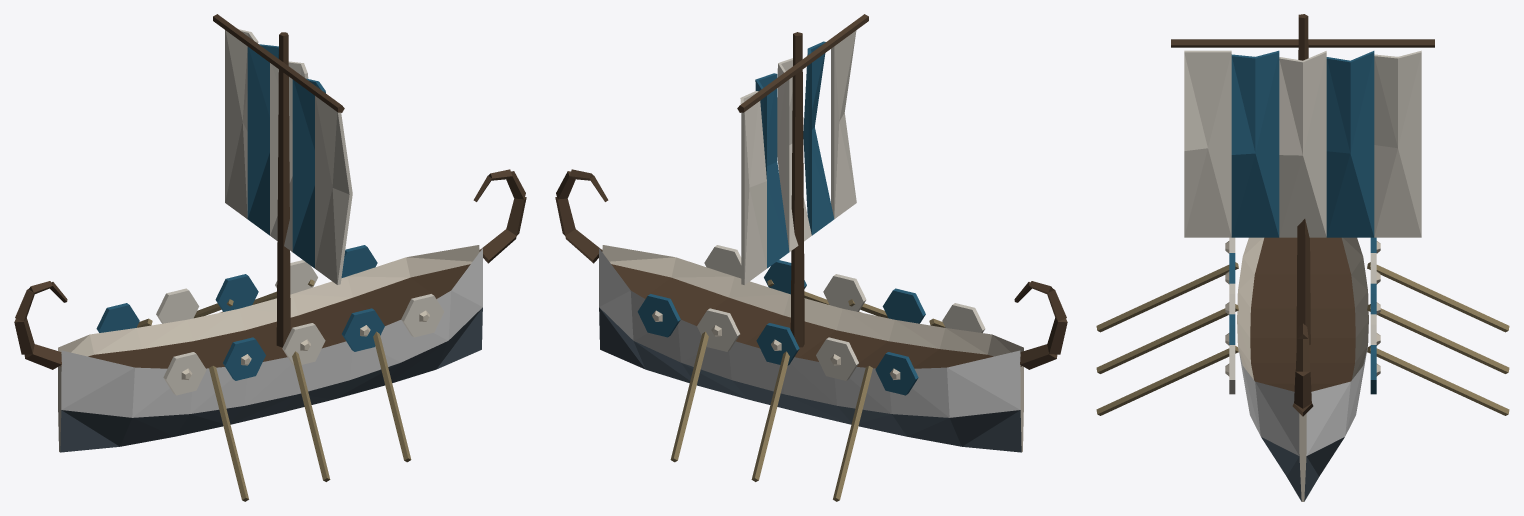
File: longboat.tidewater.glb
3 renders of one model, left to right at view 1: azimuth 30°, elevation 25°; view 2: azimuth 150°, elevation 25°; view 3: azimuth 270°, elevation 25°, orthographic. The views are drawn at different scales.
Visible parts, largest first — view 1: trim, sail, hull, mast; view 2: trim, sail, hull, mast; view 3: sail, trim, hull, mast.
Boxes of the visible parts, x1,y1,x2,y2 form: trim: [14, 169, 526, 501]; sail: [225, 29, 352, 284]; hull: [61, 248, 482, 417]; mast: [213, 14, 344, 347]; trim: [555, 169, 1067, 501]; sail: [740, 30, 856, 284]; hull: [599, 248, 1020, 417]; mast: [737, 14, 868, 347]; sail: [1184, 50, 1421, 237]; trim: [1096, 237, 1509, 501]; hull: [1238, 348, 1367, 455]; mast: [1171, 14, 1434, 344].
Size of the model in its own units: 1.9 by 1.3 by 1.25.
